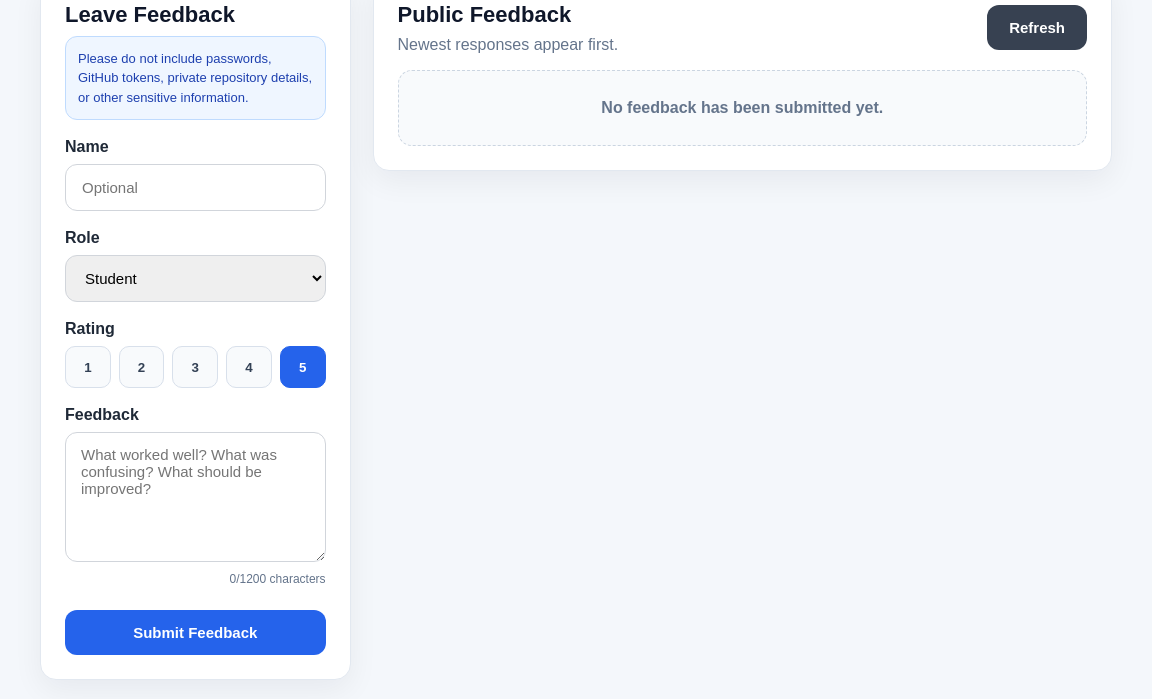
FeedbackPage › blocks blank feedback before sending a request
This screenshot has width=1152, height=699.
(page scrolled)
What coordinates should you click on to do the following:
click the button "Submit Feedback"
I would click on:
 (195, 633)
Its box is top-left (65, 610), bottom-right (326, 656).
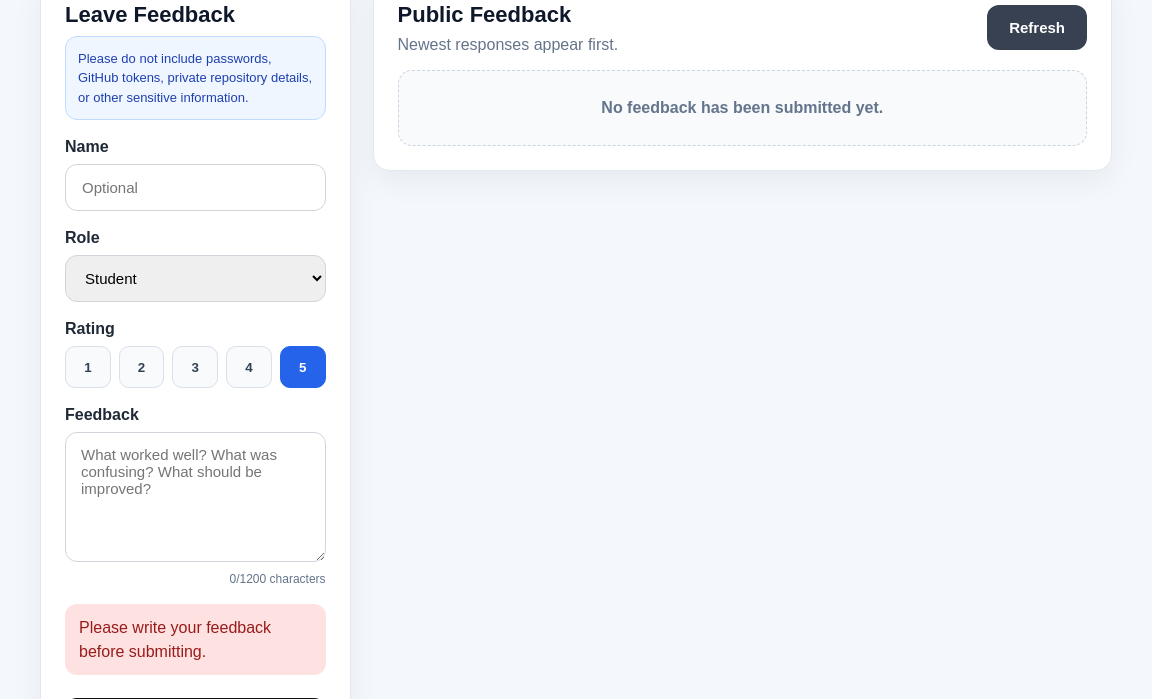
Check: the text "Please write your feedback before submitting." is shown, box top-left (65, 604), bottom-right (326, 675)
